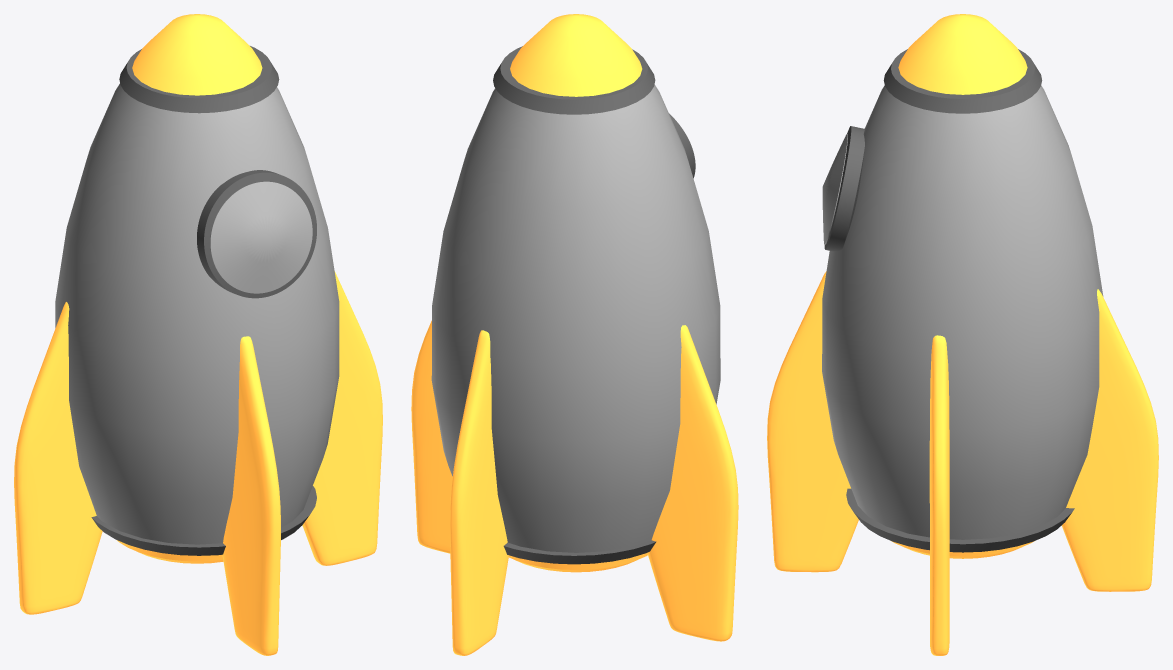
File: rocket2.fbx
The picture shows the model from 3 angles, left to right: view 1: azimuth 30°, elevation 25°; view 2: azimuth 150°, elevation 25°; view 3: azimuth 270°, elevation 25°; orthographic projection. The views are drawn at different scales.
Parts seen in each view (by area): view 1: windows; view 2: windows; view 3: windows.
Part boxes in pixels (bbox=[...]): windows: bbox=[14, 14, 382, 655]; windows: bbox=[411, 14, 738, 655]; windows: bbox=[767, 14, 1158, 655].
Size of the model in its own units: 258 by 408 by 258.
